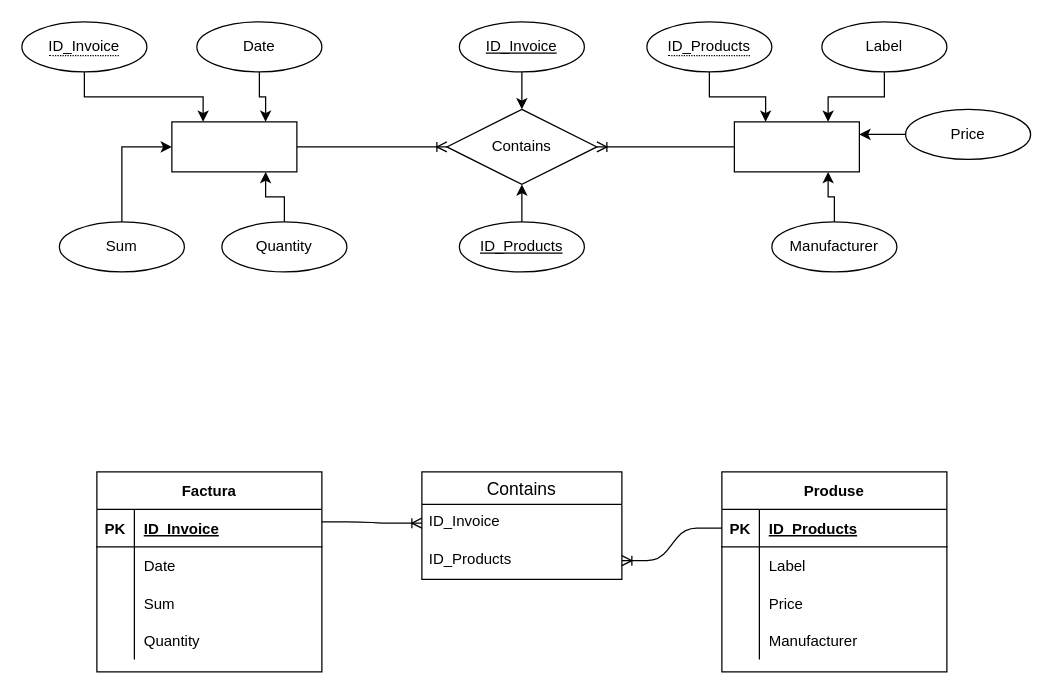
Some shapes in this 1053 by 694 pixel diagram are drawn without their labels. The centre of each missing label's shape, as x and y in pixels:
"Invoice" belongs at [234,146].
"Products" belongs at [796,146].
